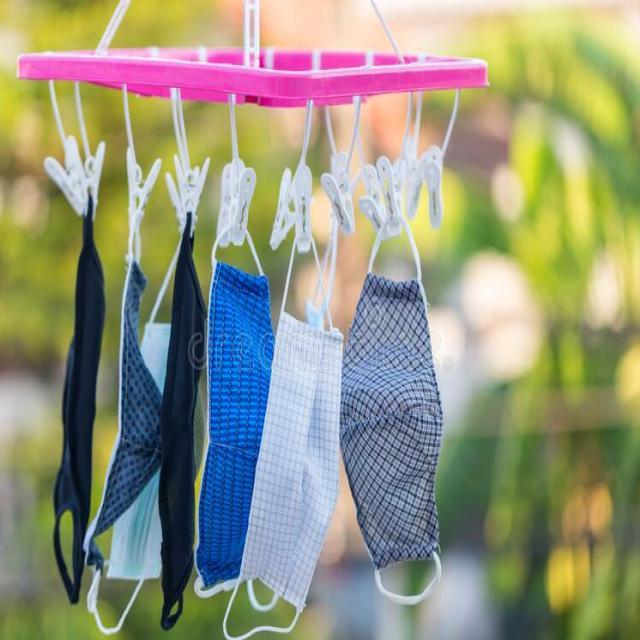clothes: (336, 251, 454, 569), (250, 300, 346, 620), (204, 266, 285, 596), (46, 182, 104, 634), (153, 224, 215, 613), (96, 231, 156, 607)
